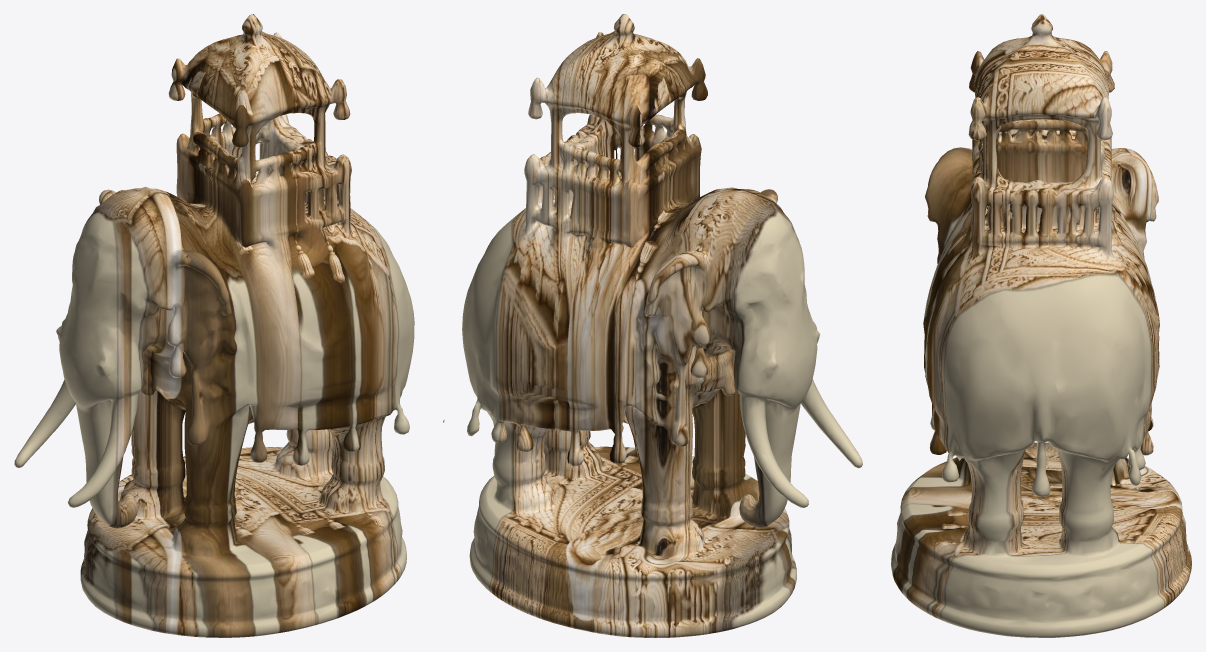
File: gaja.glb
The picture shows the model from 3 angles, left to right: view 1: azimuth 30°, elevation 25°; view 2: azimuth 150°, elevation 25°; view 3: azimuth 270°, elevation 25°; orthographic projection.
Parts seen in each view (by area): view 1: geometry_0; view 2: geometry_0; view 3: geometry_0.
Boxes of the visible parts, x1,y1,x2,y2 form: geometry_0: (14,14,414,637); geometry_0: (443,14,862,637); geometry_0: (891,14,1191,637).
Size of the model in its own units: 1.3 by 1.97 by 0.9509.
Materials: 1 (1 with a texture image).
